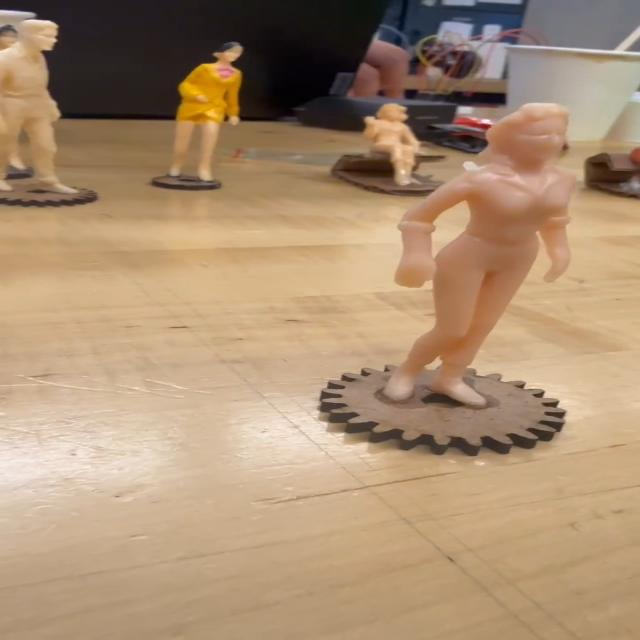Unauthorized: (327, 99, 640, 404)
